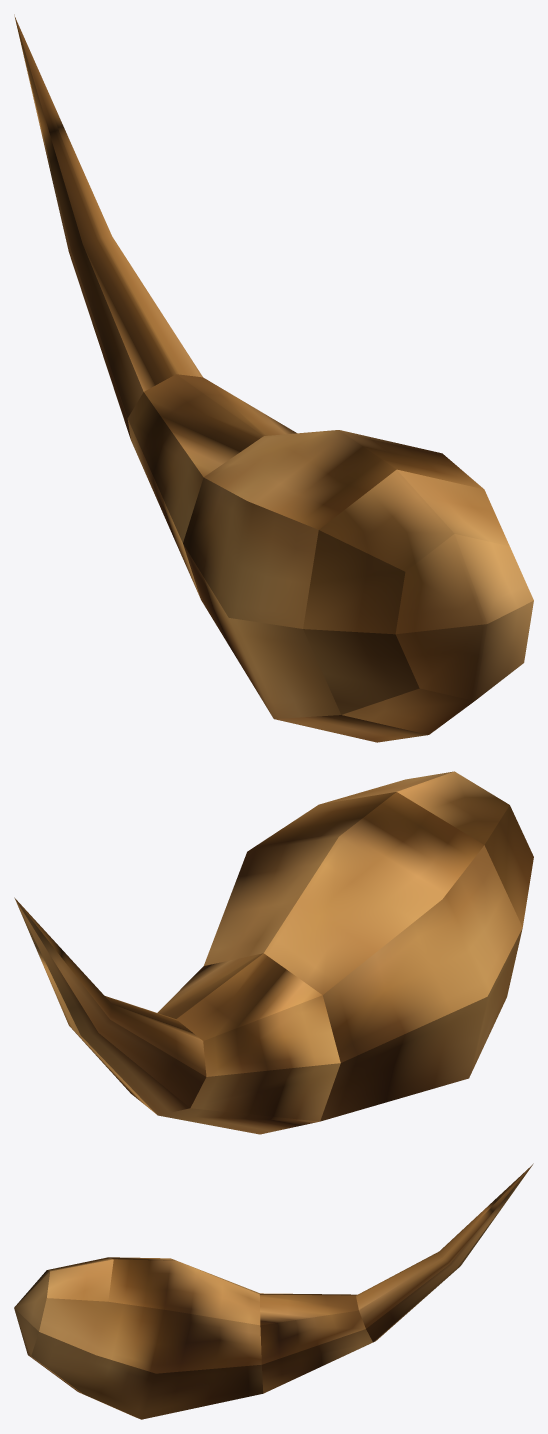
The model's file is hair_nok_02.dae.
3 renders of one model, top to bottom at view 1: azimuth 30°, elevation 25°; view 2: azimuth 150°, elevation 25°; view 3: azimuth 270°, elevation 25°, orthographic. The views are drawn at different scales.
Parts seen in each view (by area): view 1: a_hair_nok_02; view 2: a_hair_nok_02; view 3: a_hair_nok_02.
Part boxes in pixels (bbox=[...]): a_hair_nok_02: bbox=[14, 14, 533, 742]; a_hair_nok_02: bbox=[14, 771, 533, 1134]; a_hair_nok_02: bbox=[14, 1163, 533, 1419].
Size of the model in its own units: 0.3045 by 0.9646 by 0.5198.
